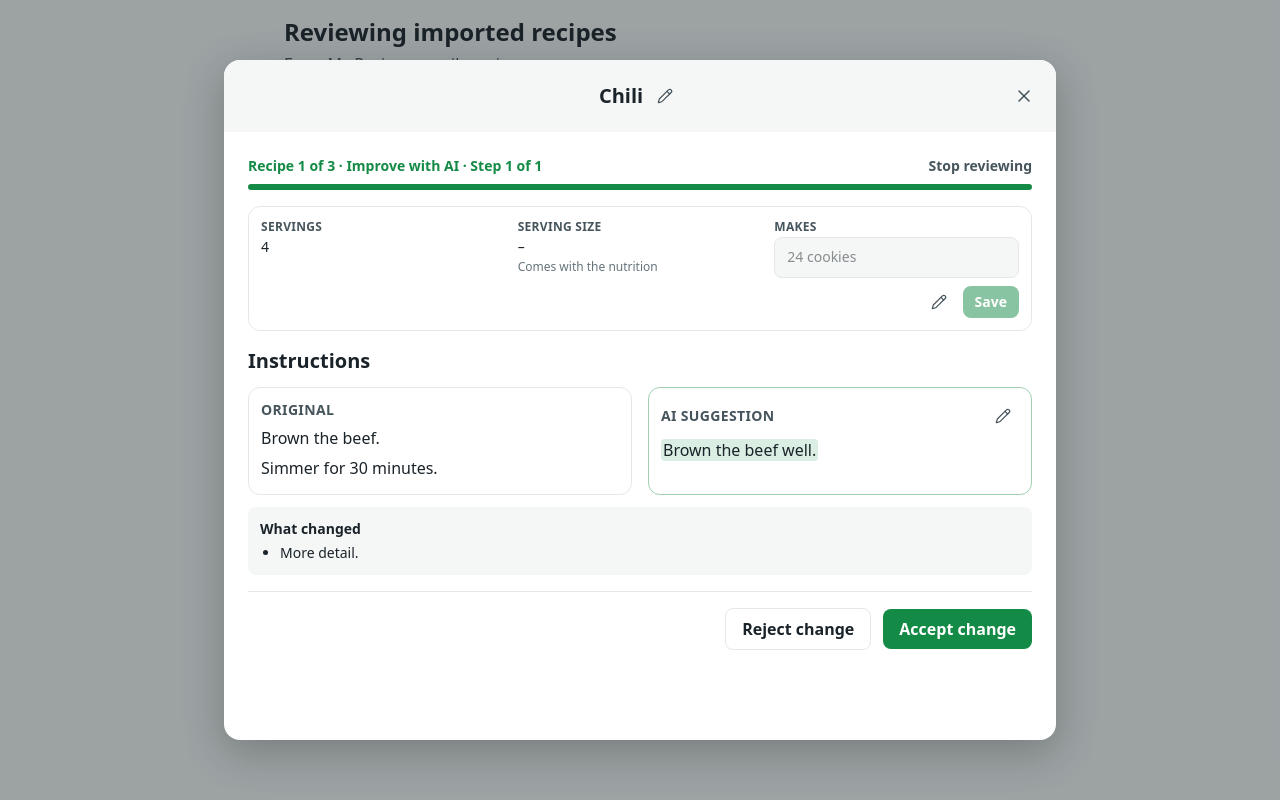
reviewing imported recipes one by one › goes through each recipe, with its name and place in the header; rejecting moves on, accepting improves it
Expected: the text "Recipe 1 of 3 · Improve with AI · Step 1 of 1" is shown, 248,156 -> 542,176
Click the button "Reject change": (798, 629) 725,608 -> 871,650
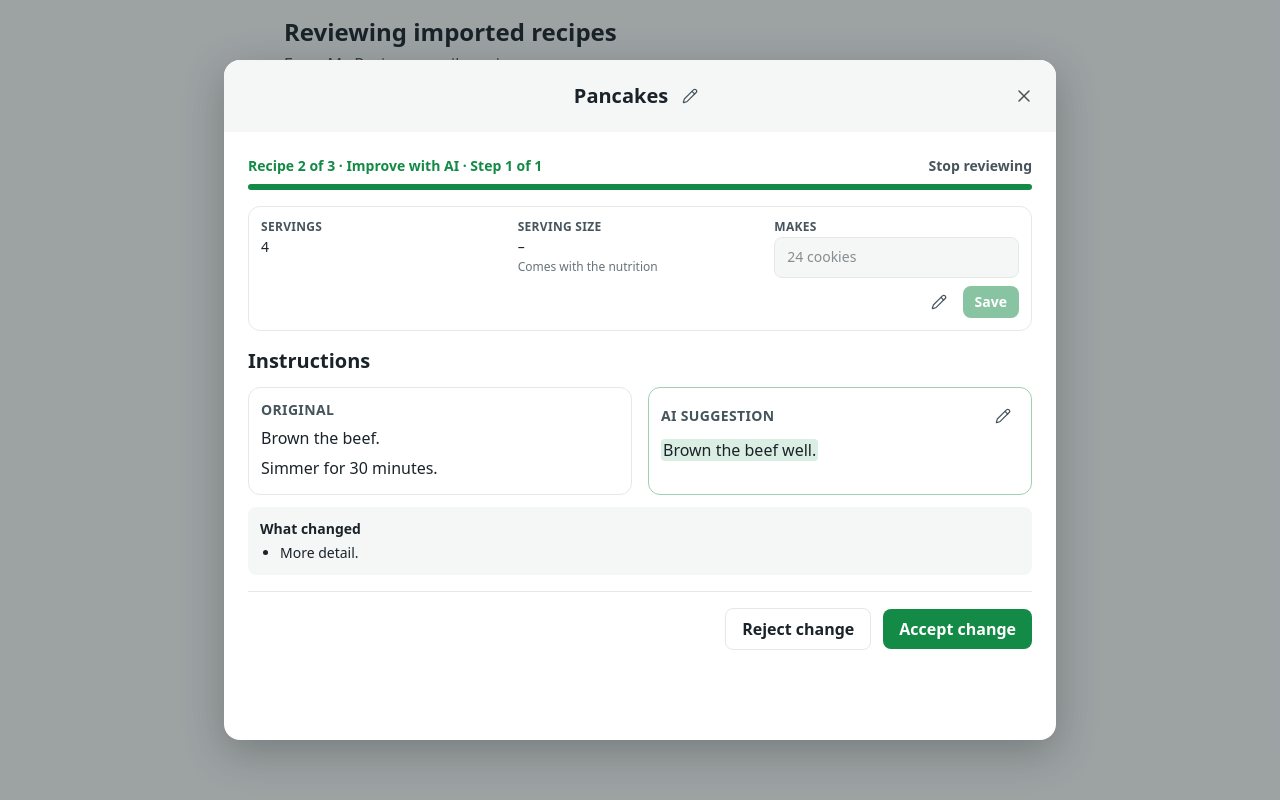
Expected: the text "Recipe 2 of 3 · Improve with AI · Step 1 of 1" is shown, 248,156 -> 542,176
Click the button "Accept change": (958, 629) 883,609 -> 1032,649
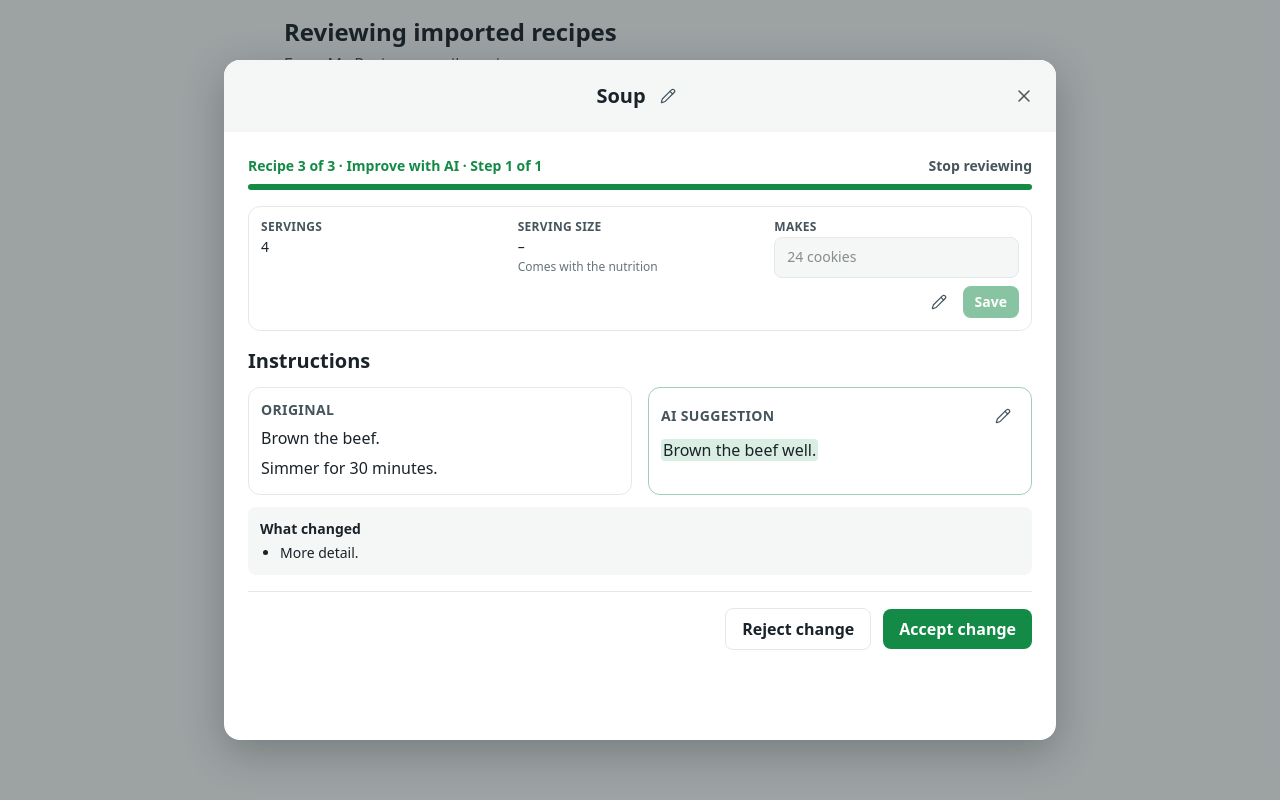
Click the button named "Close": (1024, 96) 1008,80 -> 1040,112
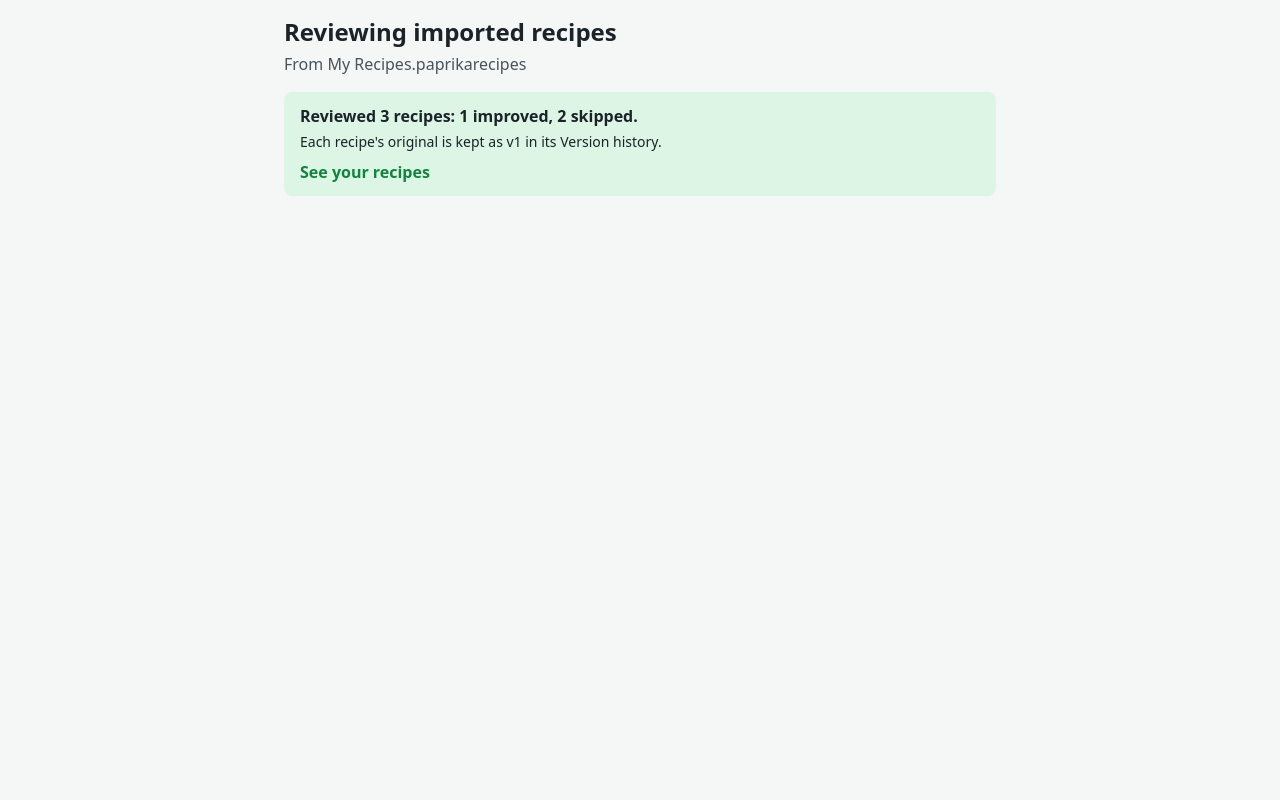
Expected: the message named "Review finished" shows "Reviewed 3 recipes: 1 improved, 2 skipped.", 284,92 -> 996,196
